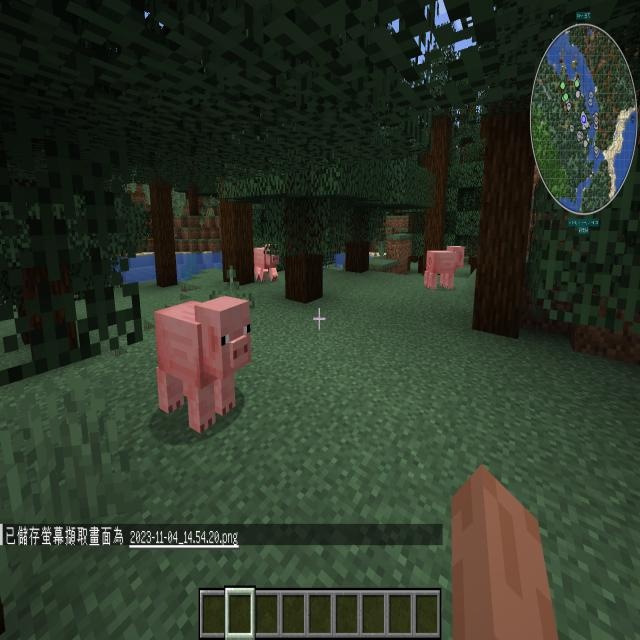pig: (142, 265, 261, 456), (414, 229, 475, 306), (248, 233, 284, 289)
